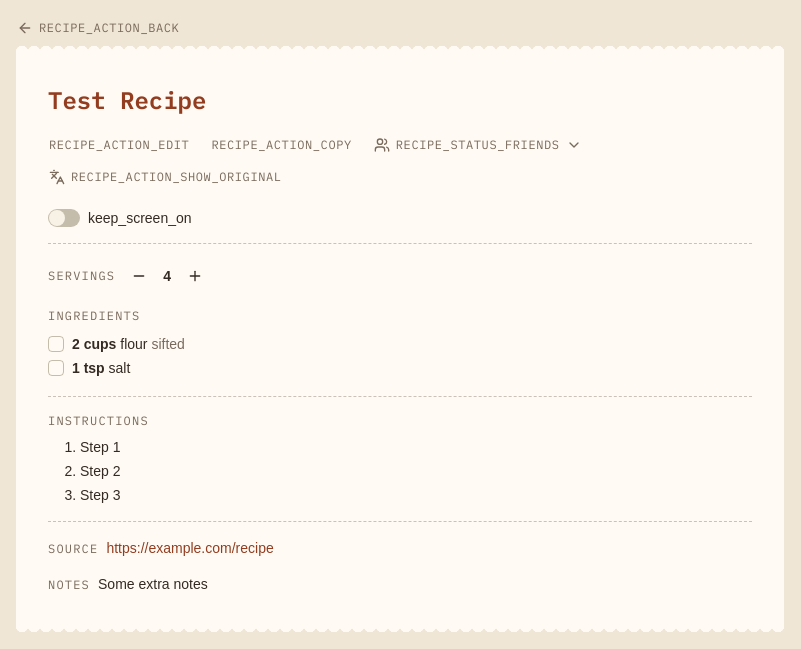
Recipe Component › Show Original Toggle › flips between the translation and the original
Click the button with test id "toggle-original-btn" at [165, 177], box x1=38 y1=161 x2=293 y2=193
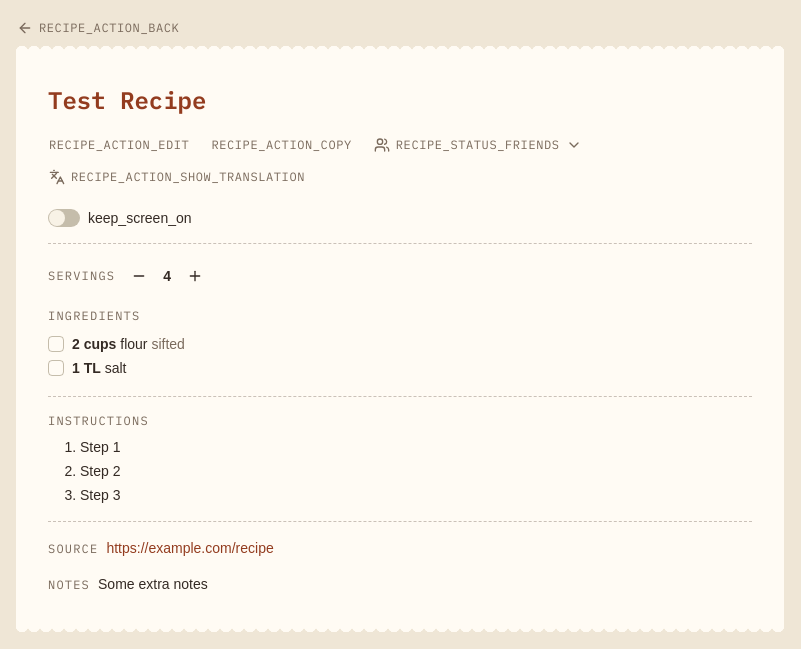
Check: the button with test id "toggle-original-btn" reads "recipe_action_show_translation", box x1=38 y1=161 x2=316 y2=193
